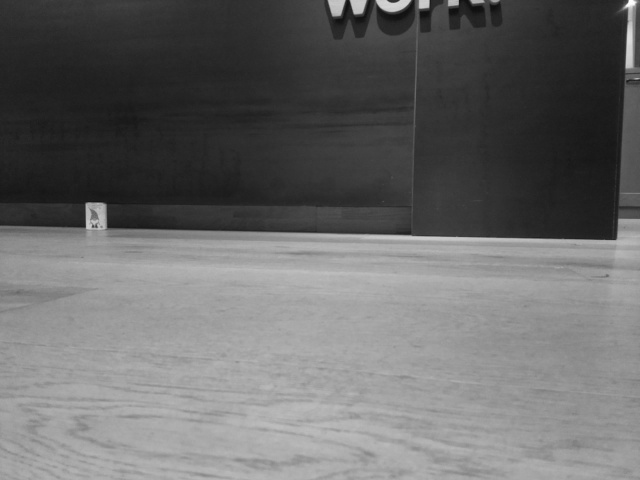gnome: (86, 206, 105, 229)
